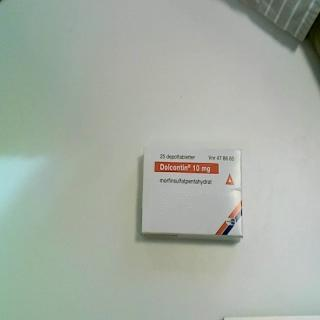dolcontin10mg: (141, 143, 245, 246)
